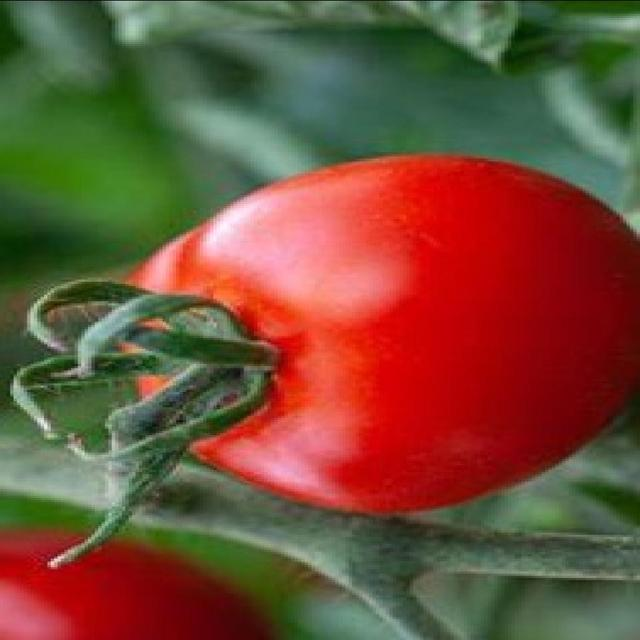Healthy Fruit: (71, 94, 427, 343)
